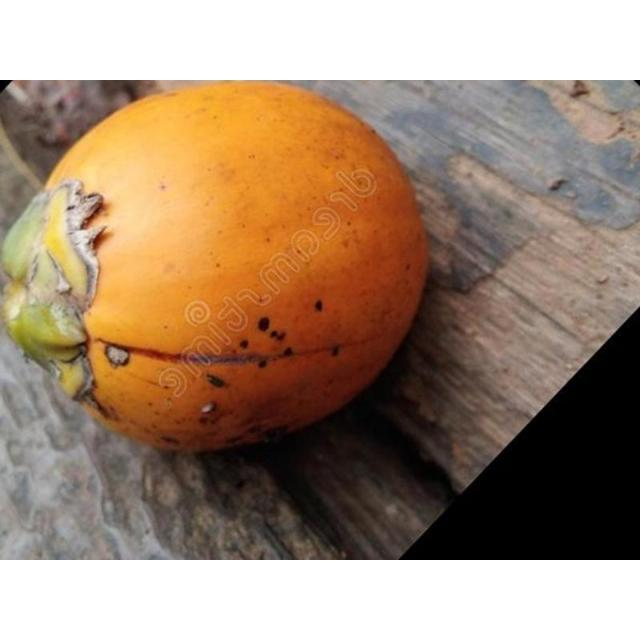good: (0, 82, 431, 455)
